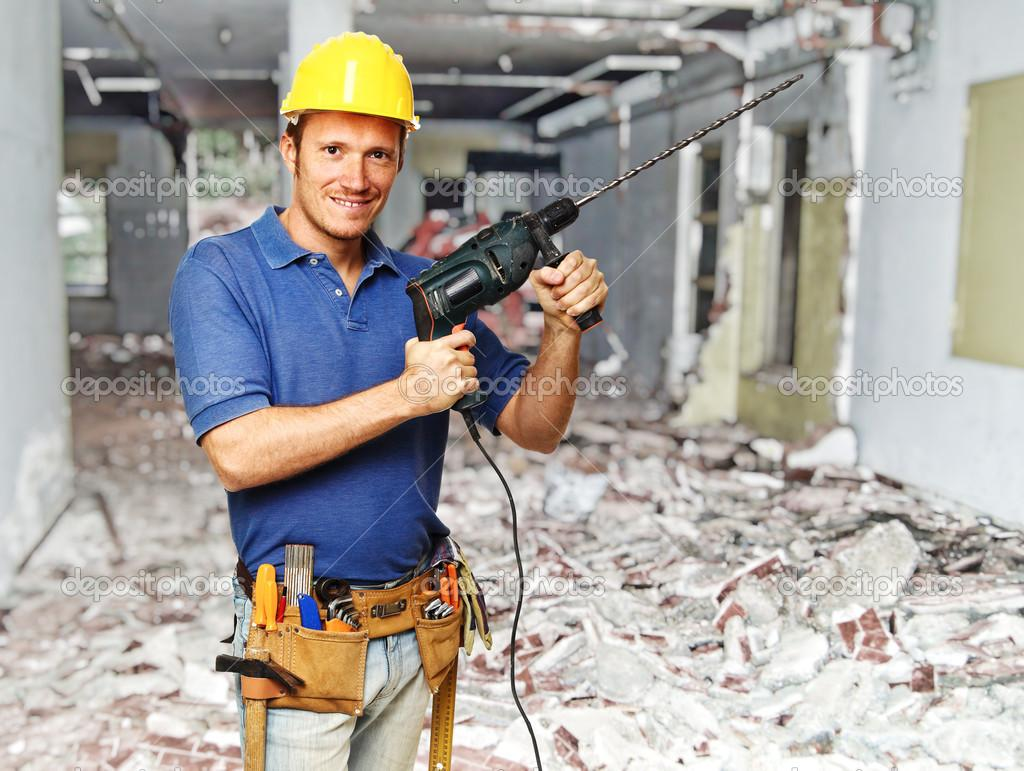face: (304, 90, 398, 234)
